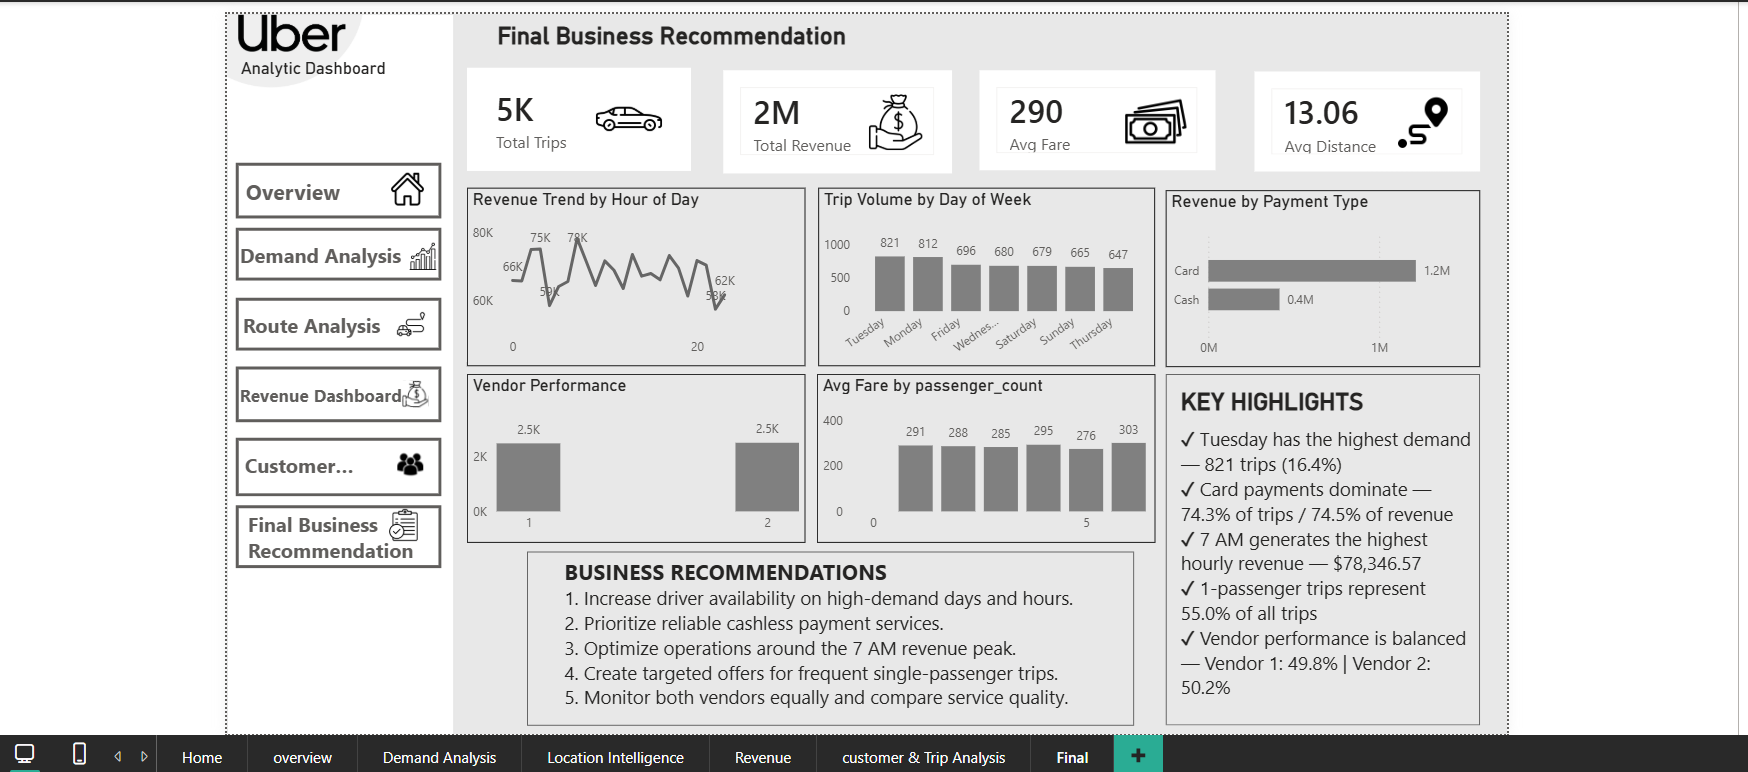

The page's visual inventory and layout, read from the dashboard file:
{"tool":"powerbi","page":{"name":"Final ","canvas":[1280,720],"ordinal":6},"visuals":[{"type":"shape","box":[0,0,188.6,745.7],"z":0},{"type":"cardVisual","fields":{"Data":["img.Total Trips"]},"box":[208.6,55.3,227.1,104.3],"z":1000},{"type":"image","box":[0,0,188.6,107.1],"z":2000},{"type":"textbox","title":"Final Business Recommendation","box":[205.7,7.1,477.1,37.1],"z":3000},{"type":"textbox","title":"Analytic Dashboard","box":[8.6,44.3,195.7,38.6],"z":4000},{"type":"actionButton","box":[10,152.9,164.3,65.7],"z":5000},{"type":"actionButton","box":[11.4,230,162.9,68.6],"z":6000},{"type":"actionButton","box":[11.4,314.3,162.9,68.6],"z":7000},{"type":"actionButton","box":[11.4,400,162.9,68.6],"z":8000},{"type":"actionButton","box":[11.4,482.9,162.9,68.6],"z":9000},{"type":"actionButton","box":[11.4,567.1,162.9,68.6],"z":10000},{"type":"cardVisual","fields":{"Data":["img.Total Revenue"]},"box":[461.4,54.7,232.9,104.3],"z":11000},{"type":"cardVisual","fields":{"Data":["img.Avg Fare"]},"box":[727.1,54.7,238.6,104.3],"z":12000},{"type":"cardVisual","fields":{"Data":["img.Avg Distance"]},"box":[1000,56.1,232.9,104.3],"z":13000},{"type":"image","box":[11.4,0,107.1,38.6],"z":14000},{"type":"clusteredColumnChart","title":"Trip Volume by Day of Week","fields":{"Category":["uber_analysis uber_cleaned.pickup_day"],"Y":["img.Total Trips"]},"box":[561.4,174.3,337.1,178.6],"z":15000},{"type":"lineChart","title":"Revenue Trend by Hour of Day","fields":{"Category":["uber_analysis uber_cleaned.pickup_hour"],"Y":["img.Total Revenue"]},"box":[205.7,175.7,338.6,178.6],"z":16000},{"type":"clusteredBarChart","title":"Revenue by Payment Type","fields":{"Category":["uber_analysis uber_cleaned.payment_type"],"Y":["img.Total Revenue"]},"box":[918.6,175.7,334.3,177.1],"z":17000},{"type":"columnChart","title":"Vendor Performance","fields":{"Category":["uber_analysis uber_cleaned.vendor_id"],"Y":["img.Total Trips"]},"box":[208.6,360,338.6,168.6],"z":18000},{"type":"columnChart","fields":{"Category":["uber_analysis uber_cleaned.passenger_count"],"Y":["img.Avg Fare"]},"box":[561.4,360,338.6,168.6],"z":19000},{"type":"shape","box":[918.6,360,334.3,351.4],"z":20000},{"type":"textbox","title":"KEY HIGHLIGHTS","box":[928.6,374.3,314.3,32.9],"z":21000},{"type":"textbox","box":[928.6,407.1,324.3,304.3],"z":22000},{"type":"shape","box":[204.3,537.1,685.7,174.3],"z":23000},{"type":"textbox","box":[205.7,537.1,641.4,182.9],"z":24000}]}

Visuals, with their boxes on the page's 1280x720 design canvas (x1, y1, x2, y2). These are canvas units, not pixel positions in the 1748x772 screenshot, which may show the page scaled, cropped or inside an application window:
shape: crop(0, 0, 189, 746)
cardVisual - img.Total Trips: crop(209, 55, 436, 160)
image: crop(0, 0, 189, 107)
"Final Business Recommendation" textbox: crop(206, 7, 683, 44)
"Analytic Dashboard" textbox: crop(9, 44, 204, 83)
actionButton: crop(10, 153, 174, 219)
actionButton: crop(11, 230, 174, 299)
actionButton: crop(11, 314, 174, 383)
actionButton: crop(11, 400, 174, 469)
actionButton: crop(11, 483, 174, 552)
actionButton: crop(11, 567, 174, 636)
cardVisual - img.Total Revenue: crop(461, 55, 694, 159)
cardVisual - img.Avg Fare: crop(727, 55, 966, 159)
cardVisual - img.Avg Distance: crop(1000, 56, 1233, 160)
image: crop(11, 0, 118, 39)
"Trip Volume by Day of Week" clusteredColumnChart: crop(561, 174, 898, 353)
"Revenue Trend by Hour of Day" lineChart: crop(206, 176, 544, 354)
"Revenue by Payment Type" clusteredBarChart: crop(919, 176, 1253, 353)
"Vendor Performance" columnChart: crop(209, 360, 547, 529)
columnChart - uber_analysis uber_cleaned.passenger_count x img.Avg Fare: crop(561, 360, 900, 529)
shape: crop(919, 360, 1253, 711)
"KEY HIGHLIGHTS" textbox: crop(929, 374, 1243, 407)
textbox: crop(929, 407, 1253, 711)
shape: crop(204, 537, 890, 711)
textbox: crop(206, 537, 847, 720)
